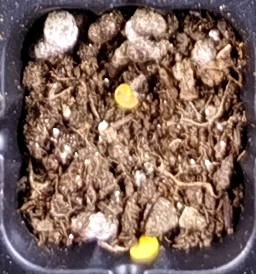chilli seed: (129, 235, 159, 258), (113, 83, 137, 108)
